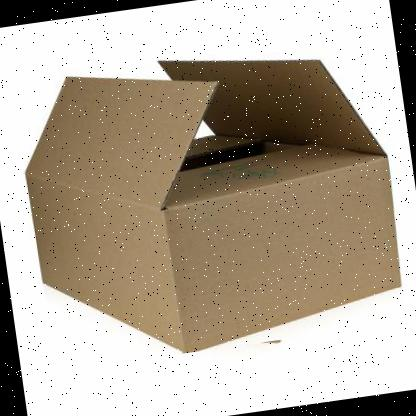box: (25, 60, 402, 354)
opened: (26, 62, 387, 212)
